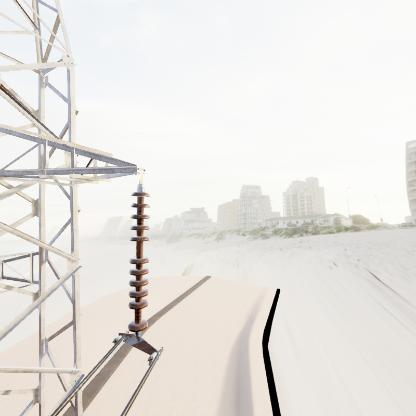insulator: (125, 184, 154, 340)
